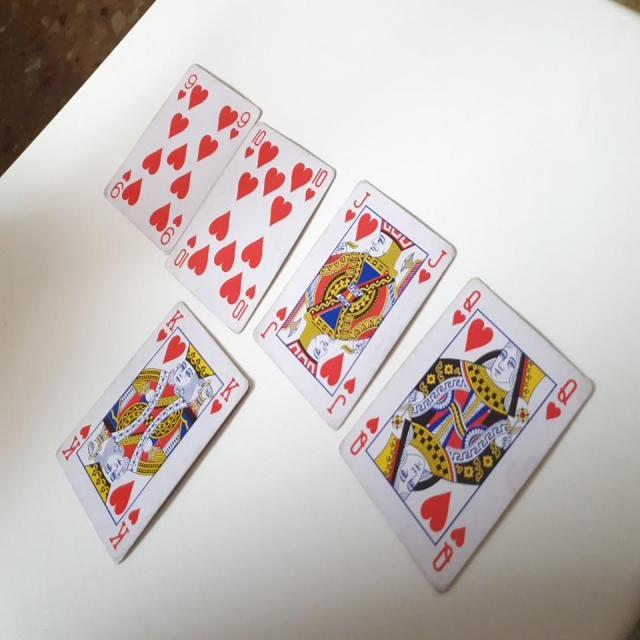10 of hearts: (157, 112, 336, 332)
9 of hearts: (102, 52, 264, 265)
jack of hearts: (258, 168, 454, 439)
king of hearts: (52, 298, 256, 588)
queen of hearts: (330, 274, 604, 600)
